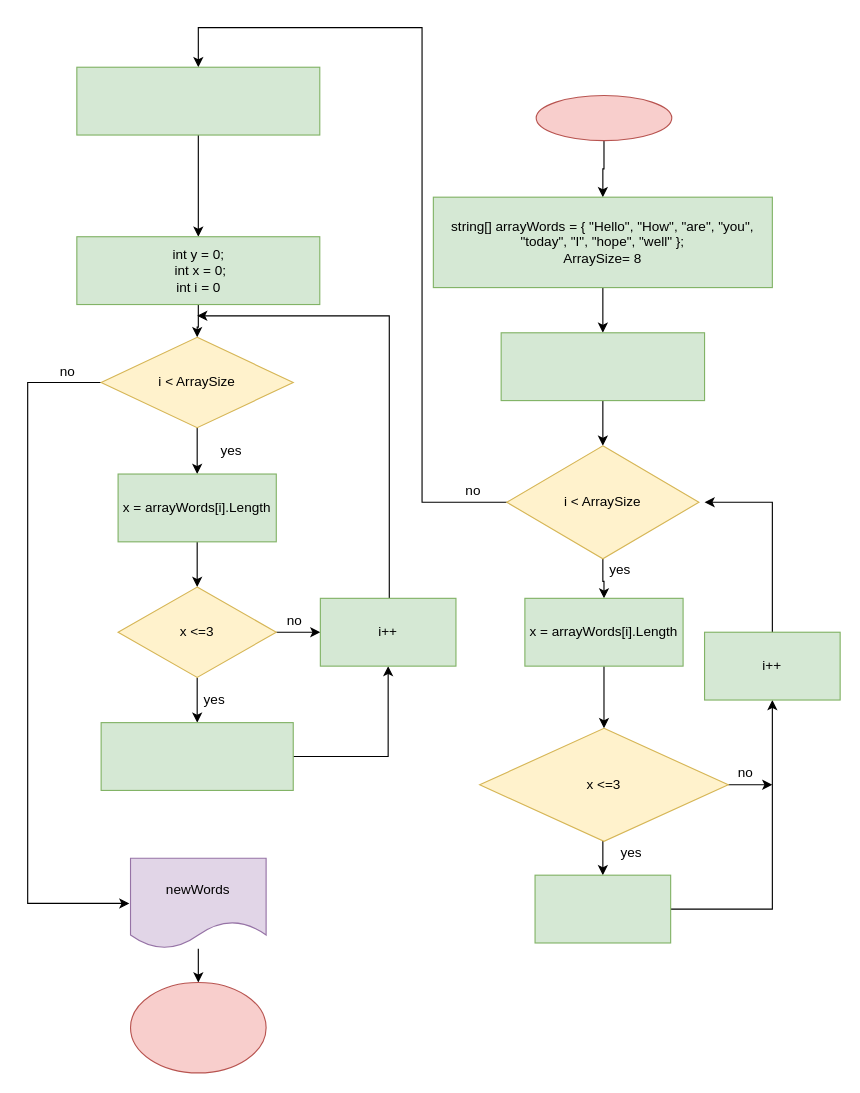
This 860x1093 diagram has some shape labels left out. Here are the shapes that lost their labels. From the top down, the box of each, then its label:
(76, 66, 320, 135): string[] newWords = new string[count]
(535, 94, 672, 141): begin
(500, 332, 705, 401): int x = 0; int count = 0; int i = 0
(100, 722, 293, 790): newWords[y] = arrayWords[i]; y++;
(534, 874, 671, 943): count ++
(129, 981, 266, 1073): end
